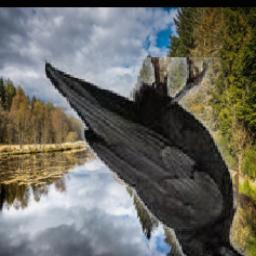Crow: (45, 58, 255, 256)
